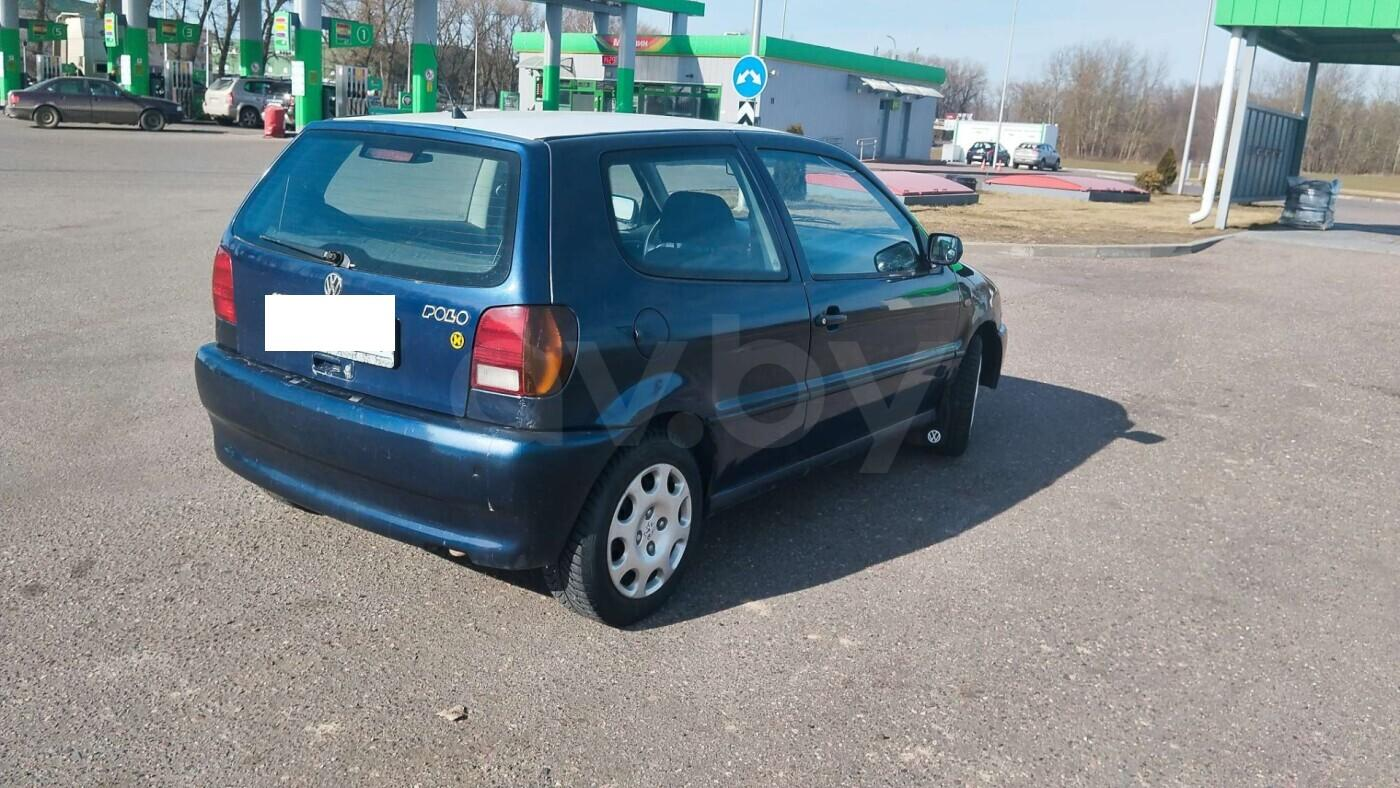Polo_1994-2002: (188, 118, 1028, 629)
